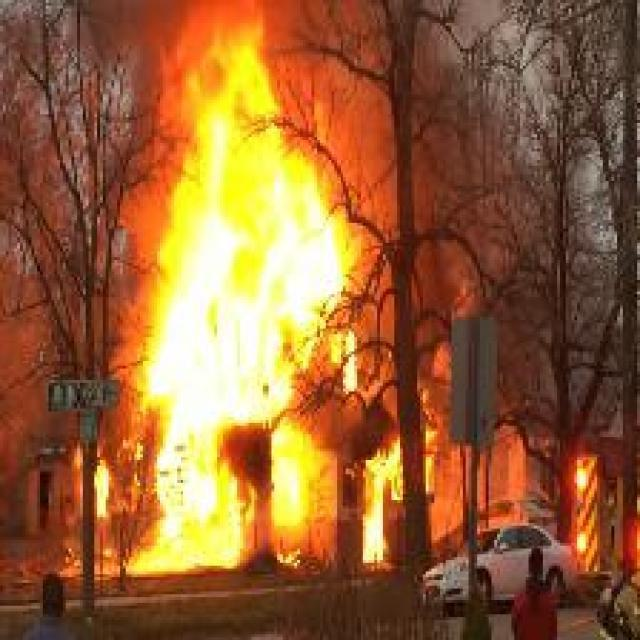Fire: (142, 54, 336, 426), (144, 428, 242, 568), (272, 429, 310, 524), (359, 504, 382, 562)
